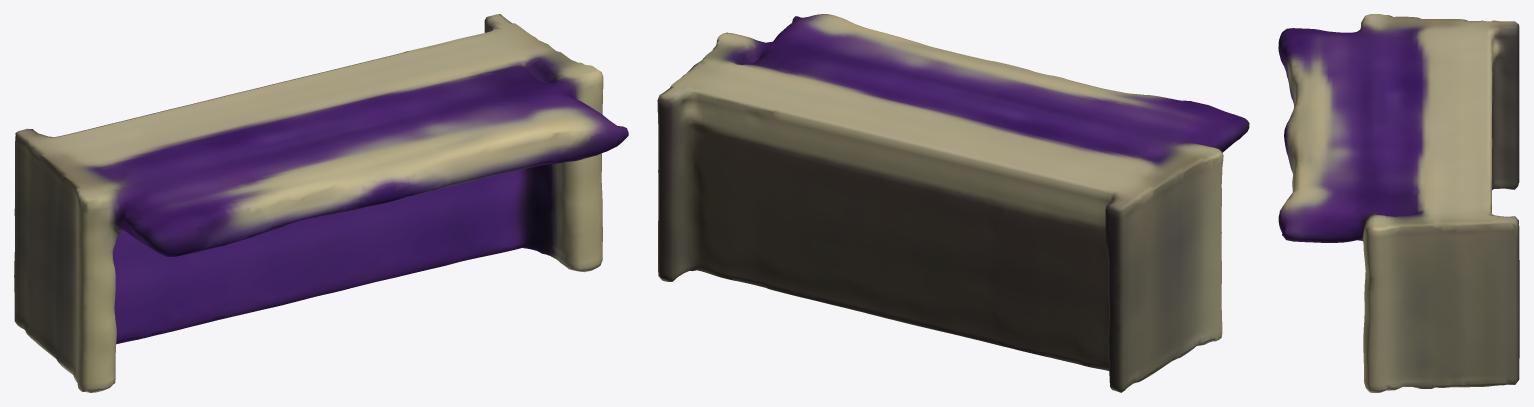
Rendered from sofa.glb.
3 views of the same model, side by side, from view 1: azimuth 30°, elevation 25°; view 2: azimuth 150°, elevation 25°; view 3: azimuth 270°, elevation 25° (orthographic). The views are drawn at different scales.
Bounding box in the file's own units: 0.9997 × 0.3563 × 0.469.
